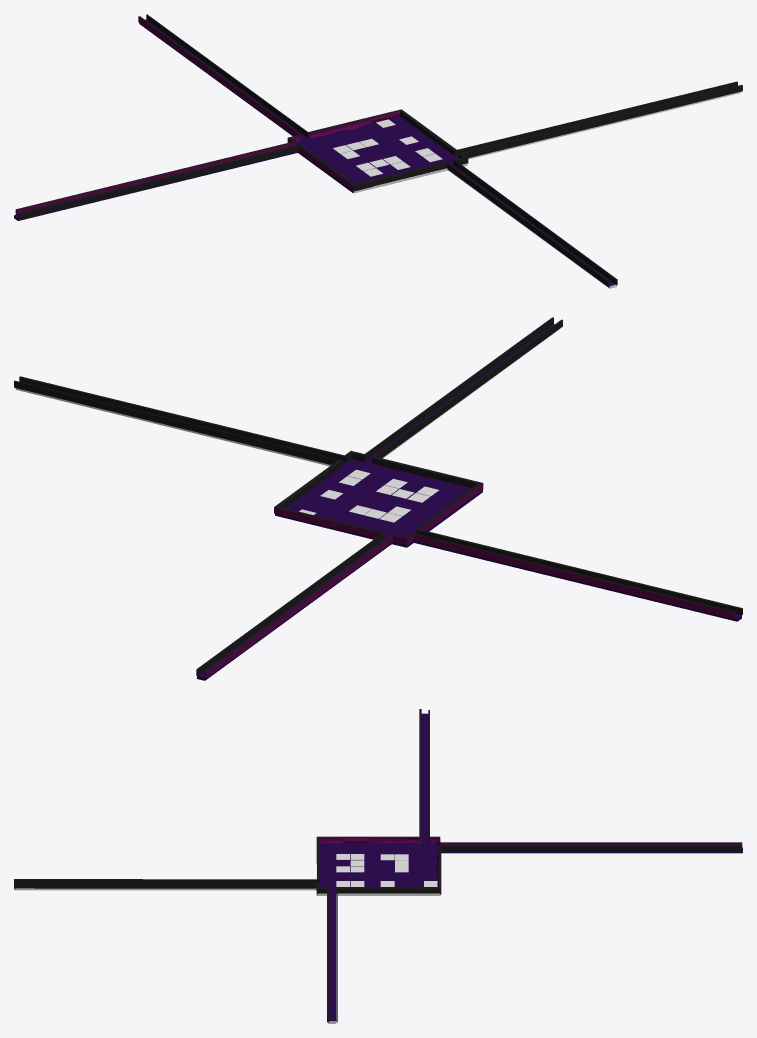
File: sala11DET.fbx
The picture shows the model from 3 angles, top to bottom: view 1: azimuth 30°, elevation 25°; view 2: azimuth 150°, elevation 25°; view 3: azimuth 270°, elevation 25°; orthographic projection. The views are drawn at different scales.
Visible parts, largest first — view 1: paredes_der_abajo11, suelo11, paredes_izq_arriba11, conjunto_trampas; view 2: paredes_der_abajo11, suelo11, paredes_izq_arriba11, conjunto_trampas; view 3: suelo11, paredes_der_abajo11, paredes_izq_arriba11, conjunto_trampas.
Part boxes in pixels (box(x1,y1,x2,y2)): paredes_der_abajo11: box(18, 14, 742, 287); suelo11: box(14, 19, 741, 288); paredes_izq_arriba11: box(15, 16, 402, 215); conjunto_trampas: box(333, 119, 442, 176); paredes_der_abajo11: box(14, 317, 742, 675); suelo11: box(15, 324, 741, 680); paredes_izq_arriba11: box(204, 482, 735, 678); conjunto_trampas: box(299, 469, 439, 522); suelo11: box(14, 713, 742, 1023); paredes_der_abajo11: box(14, 709, 742, 1022); paredes_izq_arriba11: box(317, 710, 742, 893); conjunto_trampas: box(336, 854, 437, 886).
Bounding box in the file's own units: 43737 × 476 × 43727.
